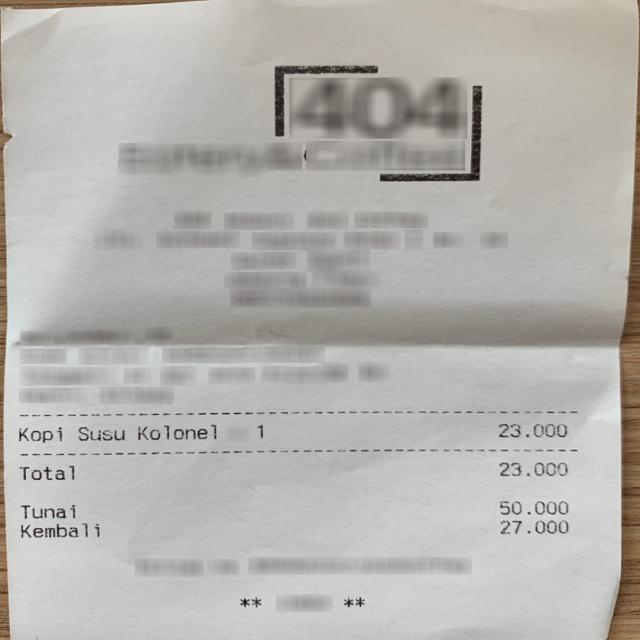text: (137, 424, 219, 439), (20, 522, 101, 537), (499, 422, 565, 437), (499, 519, 567, 533), (19, 465, 77, 481), (499, 501, 567, 513), (499, 462, 565, 474), (20, 504, 76, 518), (17, 426, 61, 441), (78, 425, 122, 440), (239, 597, 259, 605), (343, 597, 362, 605), (257, 424, 266, 438)
